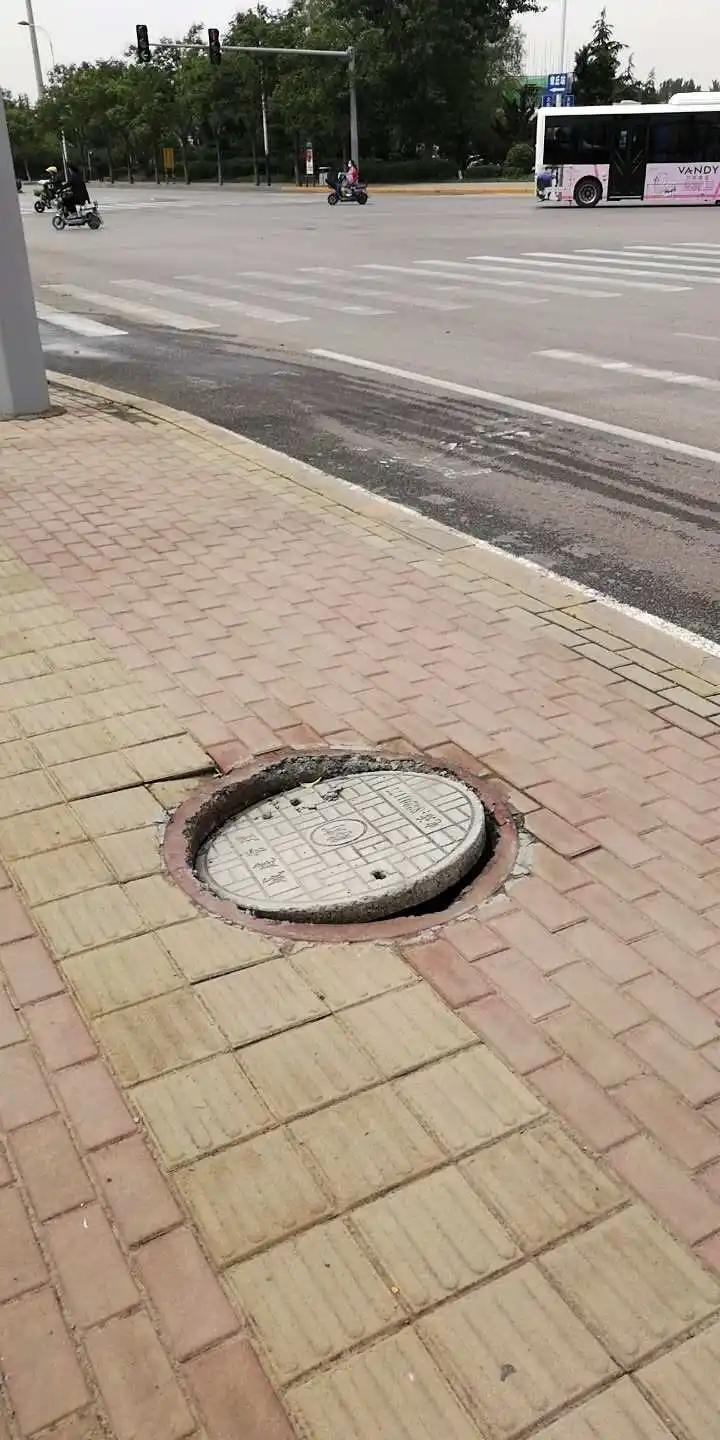wellcover: (121, 711, 541, 989)
